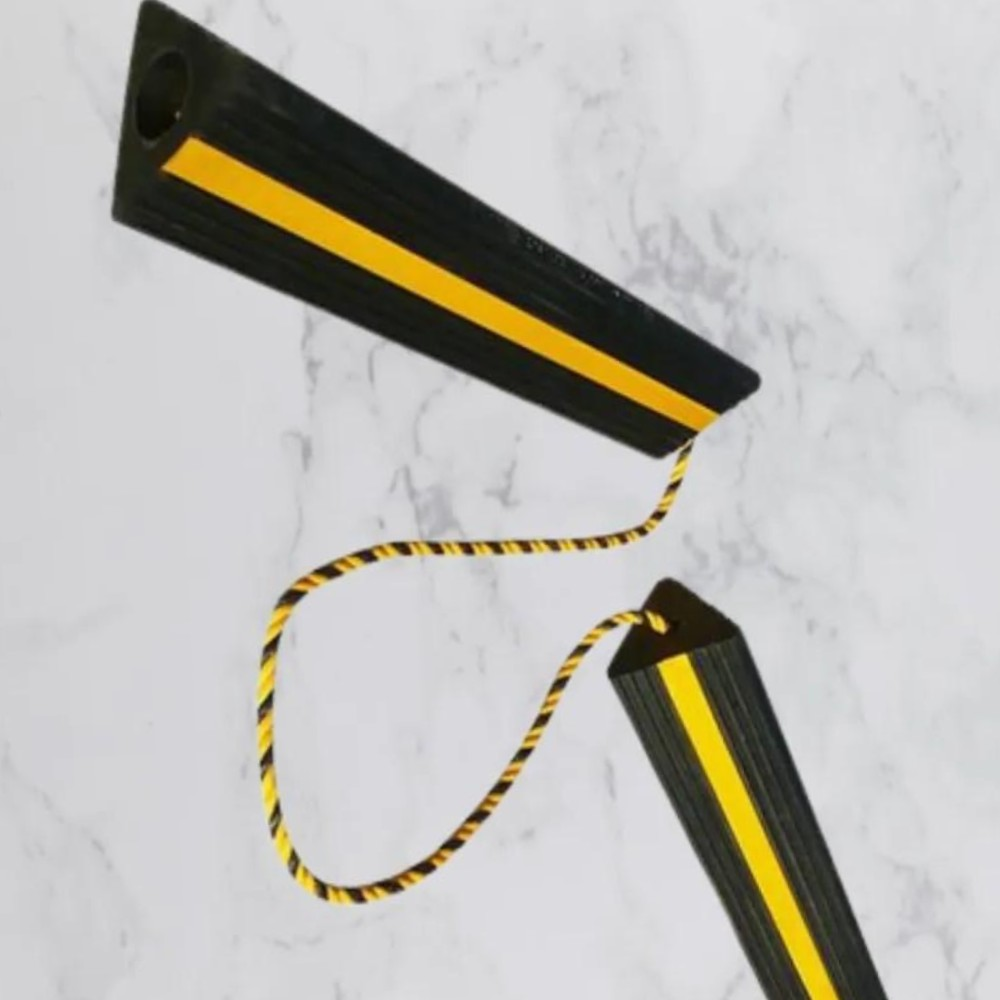chock: (73, 0, 793, 493), (586, 563, 926, 1000)
